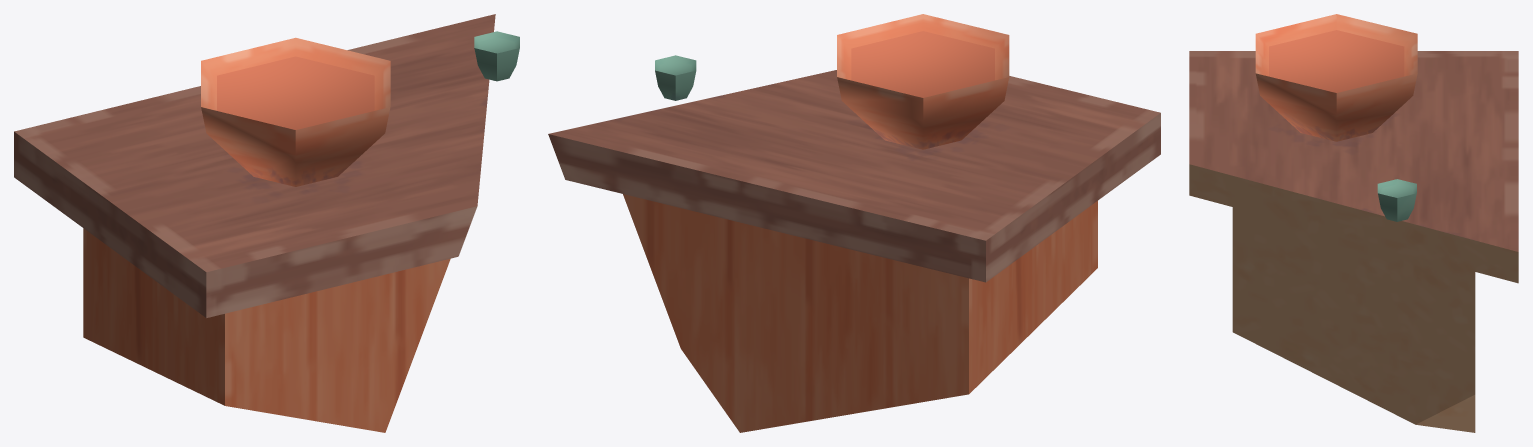
The model's file is counter_s07.fbx.
3 views of the same model, side by side, from view 1: azimuth 30°, elevation 25°; view 2: azimuth 150°, elevation 25°; view 3: azimuth 270°, elevation 25° (orthographic). The views are drawn at different scales.
Visible parts, largest first — view 1: counter_s07; view 2: counter_s07; view 3: counter_s07.
Part boxes in pixels (x1,y1,x2,y2): counter_s07: (14,14,519,432); counter_s07: (548,14,1160,432); counter_s07: (1189,14,1518,432).
Bounding box in the file's own units: 2.75 × 2.1 × 1.9.
